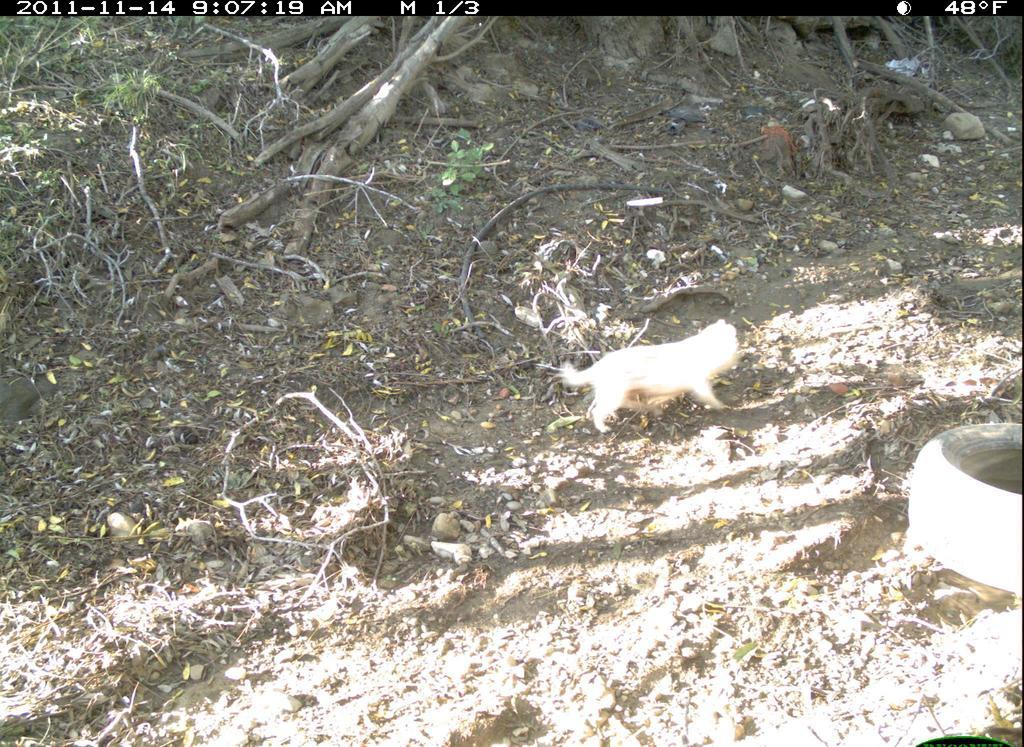dog: (550, 315, 766, 445)
